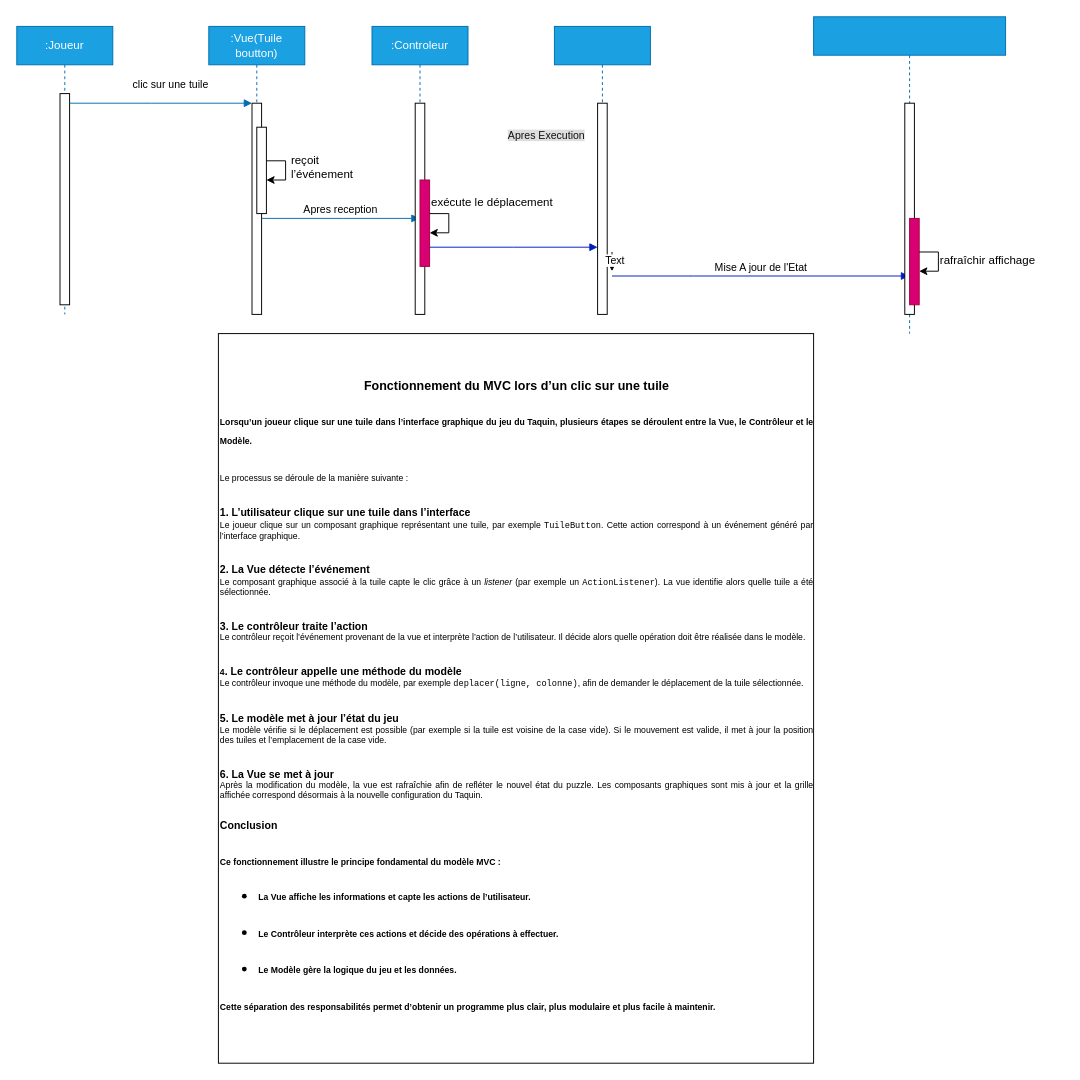
Image size: 1080x1080. Some labels were removed from this diagram. Here are the shapes that lost their labels. From the top down, the box of each, then its label:
(553, 25, 650, 314): :Modele(Taquin)
(813, 16, 1006, 334): :Vue(GrillePanel/taquinFrame)
